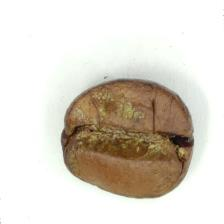NG: (64, 86, 173, 172)
